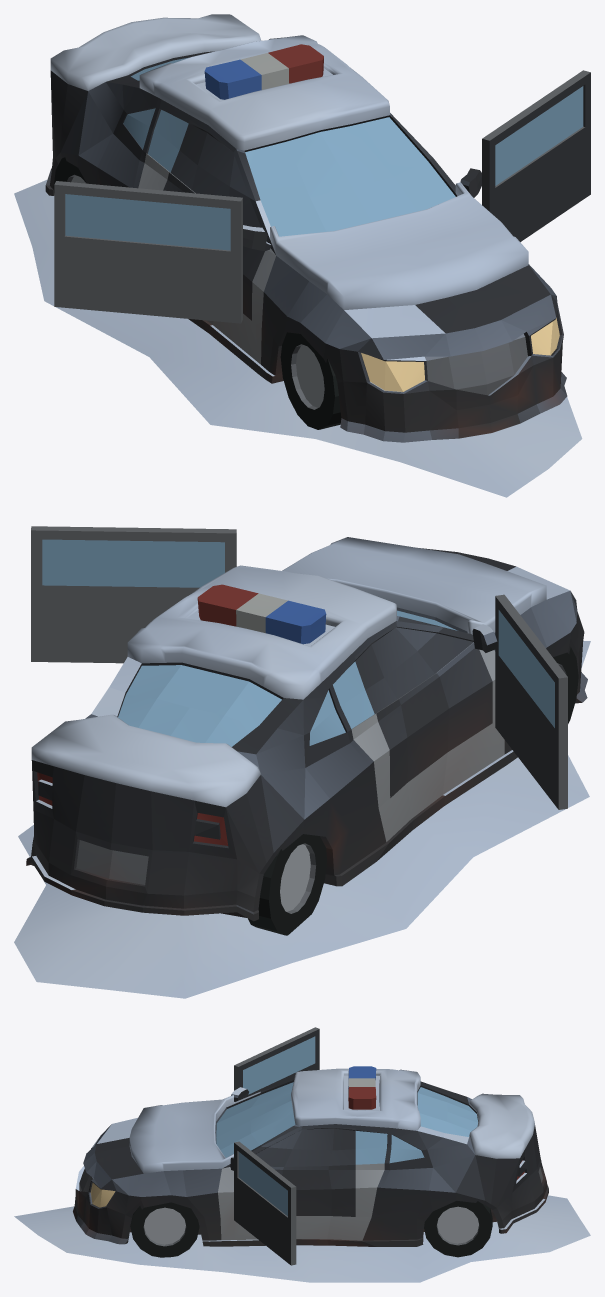
The model's file is police_doors.glb.
3 views of the same model, one above another, from view 1: azimuth 30°, elevation 25°; view 2: azimuth 150°, elevation 25°; view 3: azimuth 270°, elevation 25° (orthographic). The views are drawn at different scales.
Visible parts, largest first — view 1: Body, Glass; view 2: Body, Glass; view 3: Body, Glass.
Boxes of the visible parts, x1,y1,x2,y2 form: Body: (14, 14, 590, 497); Glass: (65, 57, 583, 250); Body: (14, 526, 590, 998); Glass: (42, 539, 554, 746); Body: (14, 1027, 590, 1282); Glass: (216, 1036, 477, 1216).
Bounding box in the file's own units: 3.91 × 1.63 × 5.94.
